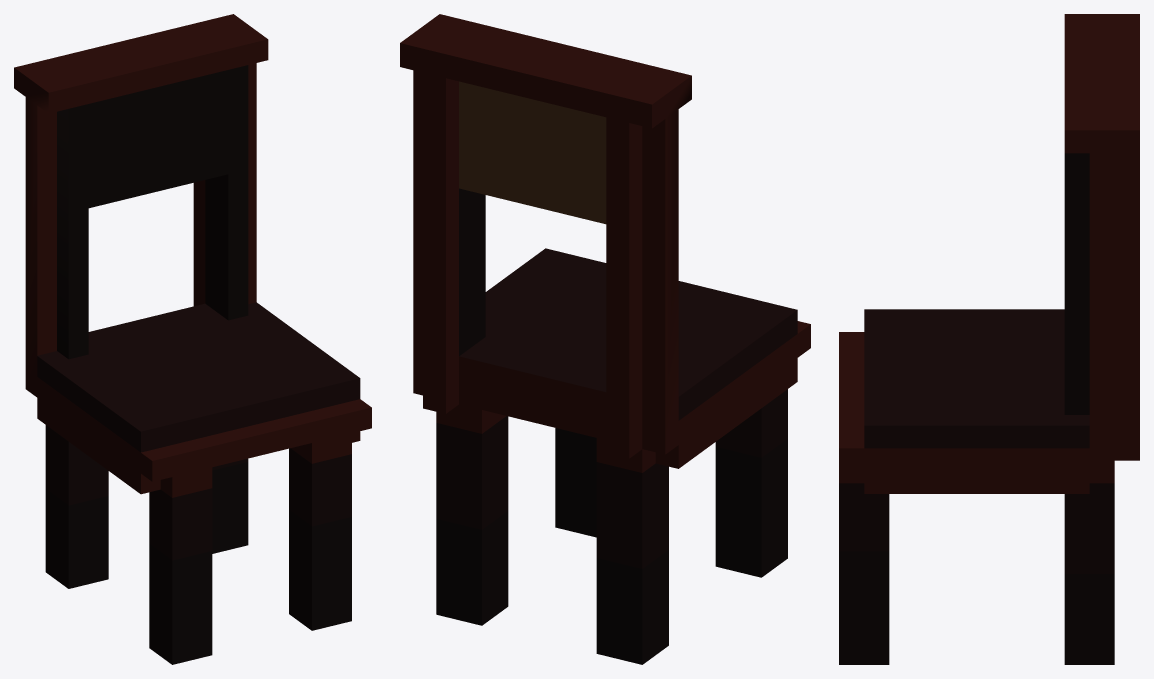
The model's file is Dining Table Chair.FBX.
The picture shows the model from 3 angles, left to right: view 1: azimuth 30°, elevation 25°; view 2: azimuth 150°, elevation 25°; view 3: azimuth 270°, elevation 25°; orthographic projection. The views are drawn at different scales.
Parts seen in each view (by area): view 1: Dining Table Chair; view 2: Dining Table Chair; view 3: Dining Table Chair.
Part boxes in pixels (x1,y1,x2,y2): Dining Table Chair: (14,14,371,664); Dining Table Chair: (400,14,810,664); Dining Table Chair: (839,14,1139,664).
Bounding box in the file's own units: 3.38 × 7.37 × 3.68.
Materials: 6 (1 with a texture image).
